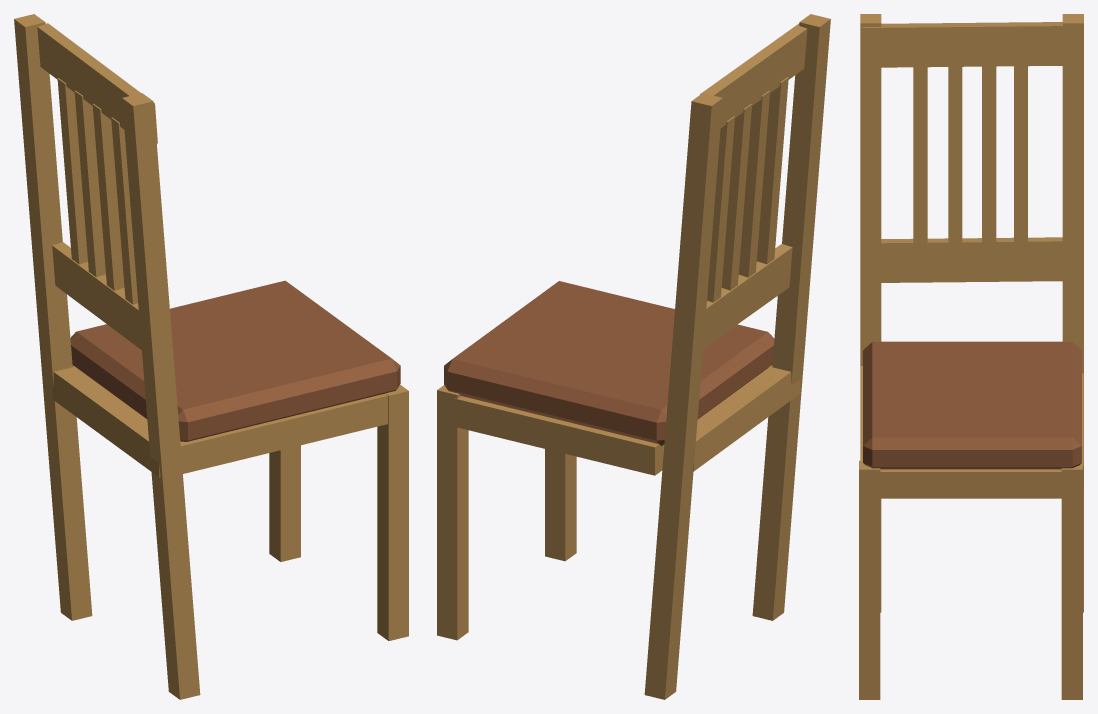
The model's file is chair_notexture.fbx.
The picture shows the model from 3 angles, left to right: view 1: azimuth 30°, elevation 25°; view 2: azimuth 150°, elevation 25°; view 3: azimuth 270°, elevation 25°; orthographic projection. The views are drawn at different scales.
Parts seen in each view (by area): view 1: pCube20, pCube10; view 2: pCube20, pCube10; view 3: pCube20, pCube10.
Boxes of the visible parts, x1,y1,x2,y2 form: pCube20: (14, 14, 408, 699); pCube10: (70, 280, 400, 441); pCube20: (437, 14, 830, 699); pCube10: (444, 281, 774, 445); pCube20: (859, 14, 1083, 699); pCube10: (863, 341, 1081, 469).
Bounding box in the file's own units: 19.88 × 41.78 × 14.99.
